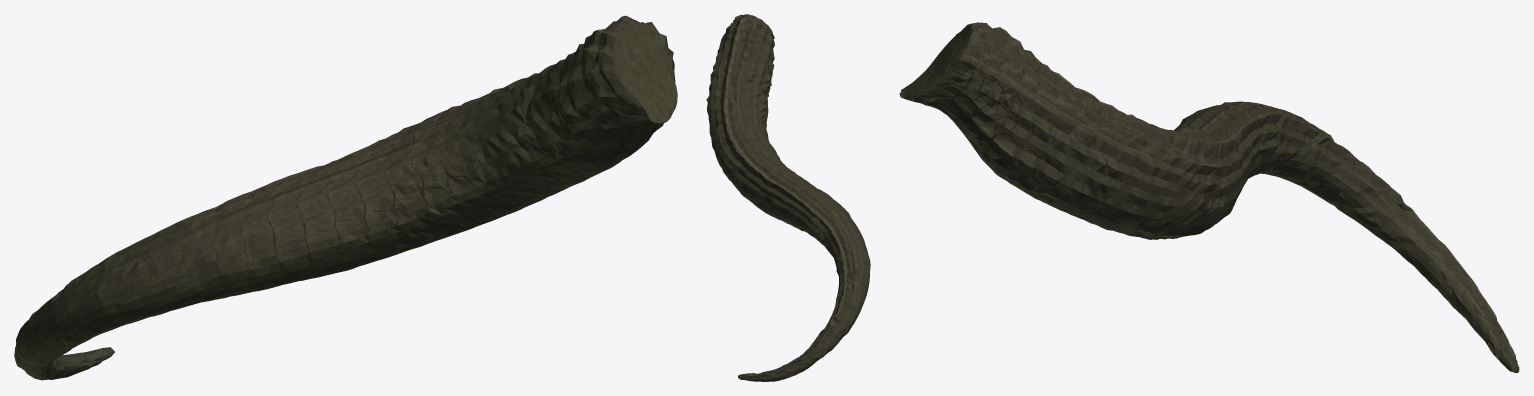
File: ewm_lizardtail.glb
3 renders of one model, left to right at view 1: azimuth 30°, elevation 25°; view 2: azimuth 150°, elevation 25°; view 3: azimuth 270°, elevation 25°, orthographic. The views are drawn at different scales.
Visible parts, largest first — view 1: ewm_lizardtail; view 2: ewm_lizardtail; view 3: ewm_lizardtail.
Part boxes in pixels (x1,y1,x2,y2): ewm_lizardtail: (14, 15, 677, 380); ewm_lizardtail: (706, 14, 870, 381); ewm_lizardtail: (899, 22, 1519, 373).
Bounding box in the file's own units: 0.8563 × 0.837 × 1.
1 material, 1 textured.
